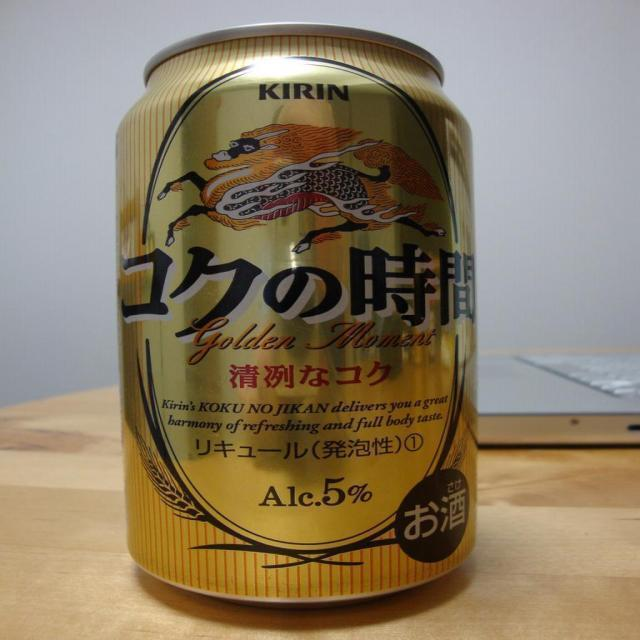metal-can: (104, 19, 498, 631)
